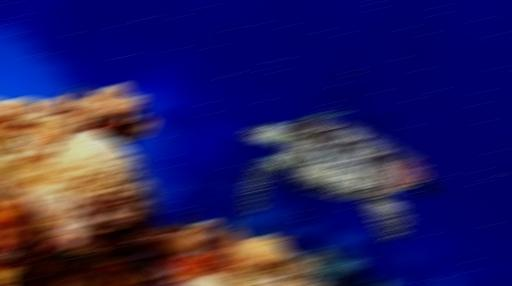Fish: (241, 112, 438, 240)
